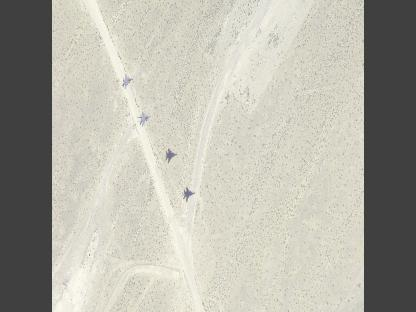F117: (118, 73, 134, 89), (136, 111, 150, 127)
